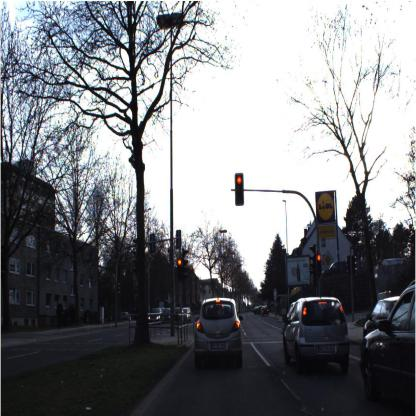other: (322, 250, 332, 268)
